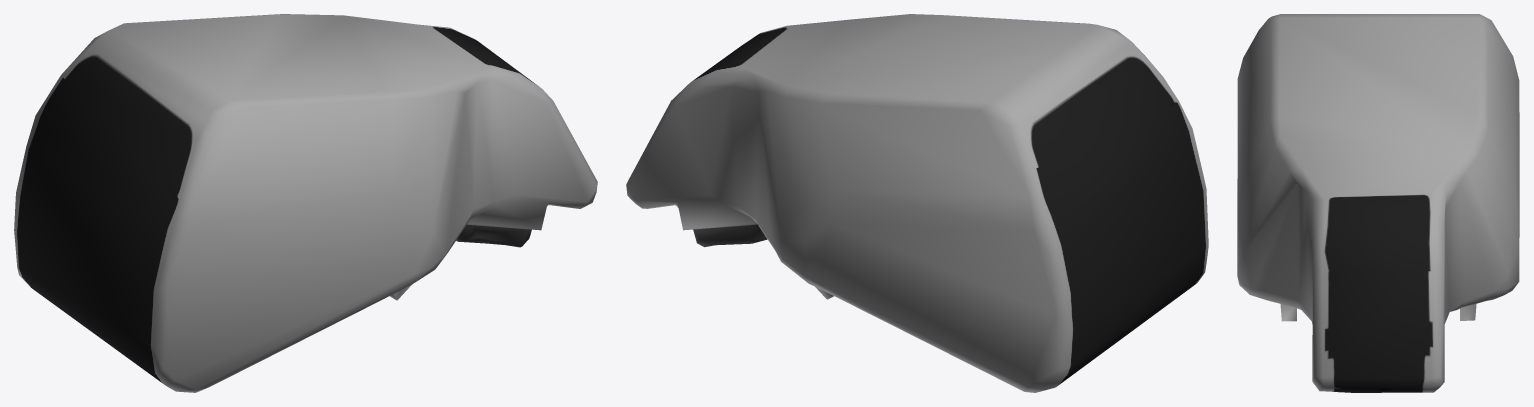
Rendered from r_gripper_r_finger_link.OBJ.
3 views of the same model, side by side, from view 1: azimuth 30°, elevation 25°; view 2: azimuth 150°, elevation 25°; view 3: azimuth 270°, elevation 25° (orthographic). The views are drawn at different scales.
Parts seen in each view (by area): view 1: /ambf/env/pr2/r_gripper_r_finger_link_/ambf/env/pr2/r_gripper_r_; view 2: /ambf/env/pr2/r_gripper_r_finger_link_/ambf/env/pr2/r_gripper_r_; view 3: /ambf/env/pr2/r_gripper_r_finger_link_/ambf/env/pr2/r_gripper_r_.
Boxes of the visible parts, x1,y1,x2,y2 form: /ambf/env/pr2/r_gripper_r_finger_link_/ambf/env/pr2/r_gripper_r_: [14, 14, 597, 392]; /ambf/env/pr2/r_gripper_r_finger_link_/ambf/env/pr2/r_gripper_r_: [626, 14, 1208, 392]; /ambf/env/pr2/r_gripper_r_finger_link_/ambf/env/pr2/r_gripper_r_: [1237, 14, 1519, 392].
Bounding box in the file's own units: 0.1045 × 0.0549 × 0.0562.
